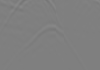hyperbola: (20, 23, 81, 60)
